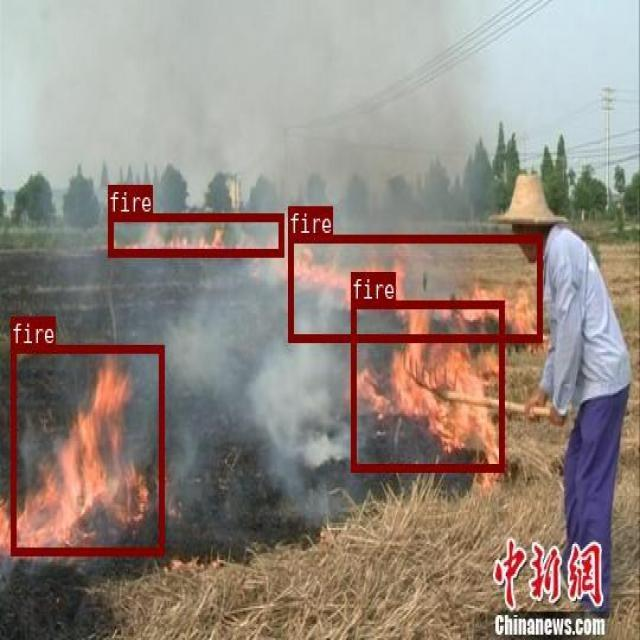fire: (10, 344, 163, 553), (287, 234, 541, 341), (350, 299, 503, 470), (108, 213, 283, 256)
